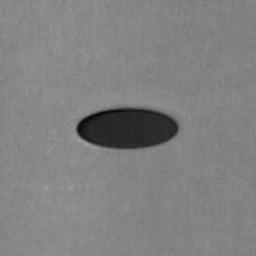Punching: (77, 109, 178, 148)
